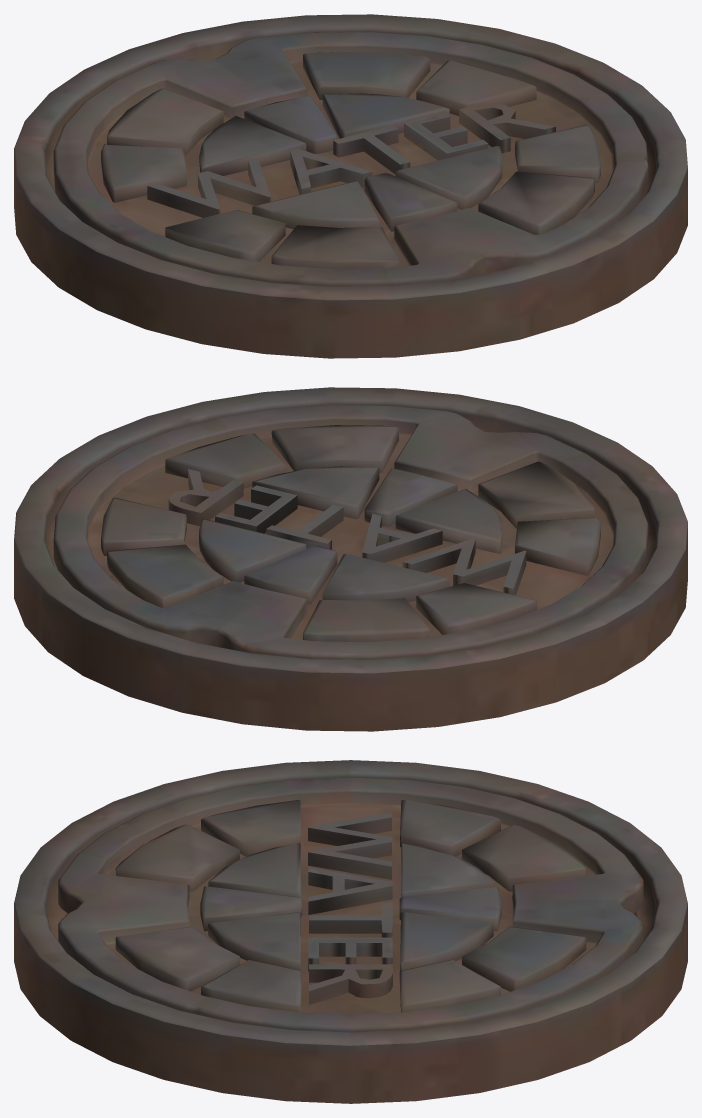
File: water_manhole_cover.glb
3 renders of one model, top to bottom at view 1: azimuth 30°, elevation 25°; view 2: azimuth 150°, elevation 25°; view 3: azimuth 270°, elevation 25°, orthographic.
Visible parts, largest first — view 1: water_manhole_cover_frame; view 2: water_manhole_cover_frame; view 3: water_manhole_cover_frame.
Part boxes in pixels (x1,y1,x2,y2): water_manhole_cover_frame: (14, 14, 687, 358); water_manhole_cover_frame: (14, 387, 687, 731); water_manhole_cover_frame: (14, 760, 687, 1103).
Bounding box in the file's own units: 0.6908 × 0.0676 × 0.6908.
Materials: 1 (1 with a texture image).
